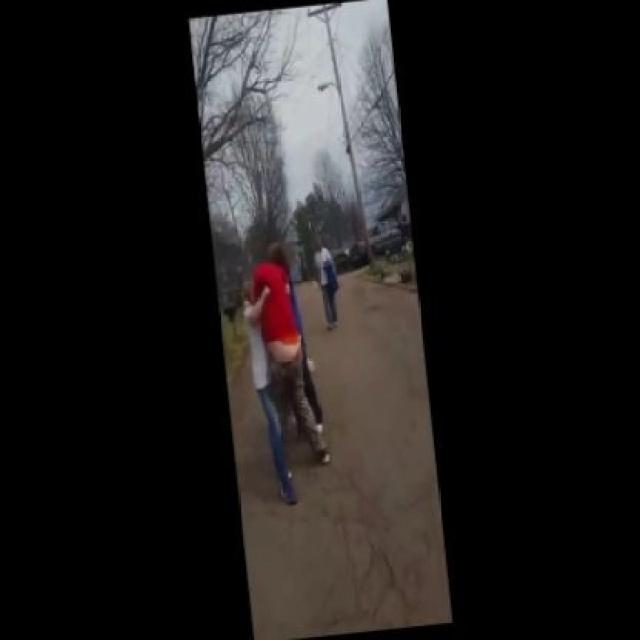fight: (214, 238, 344, 514)
non-fight: (300, 240, 348, 334)
